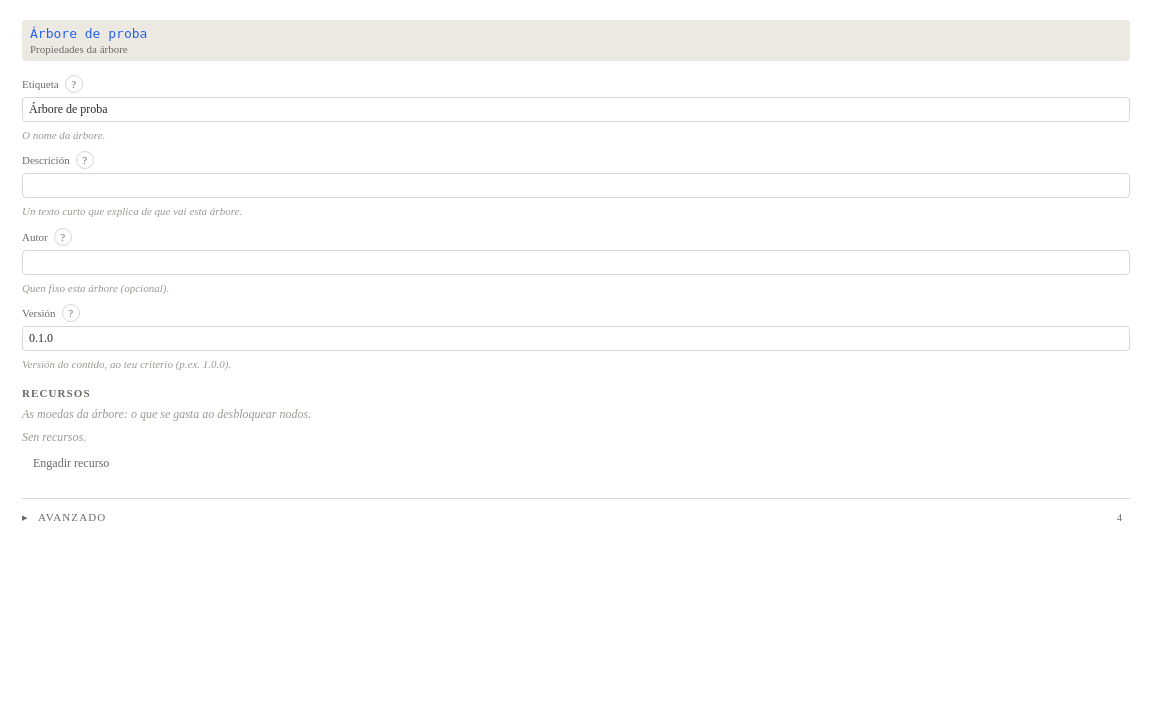
it: ★ 7.12 — TreeInspector: recursos › ★ Engadir recurso dispara setTreeField(resources) co array correcto, id libre
Click the button "Engadir recurso" at (71, 463), box [22,451,120,476]
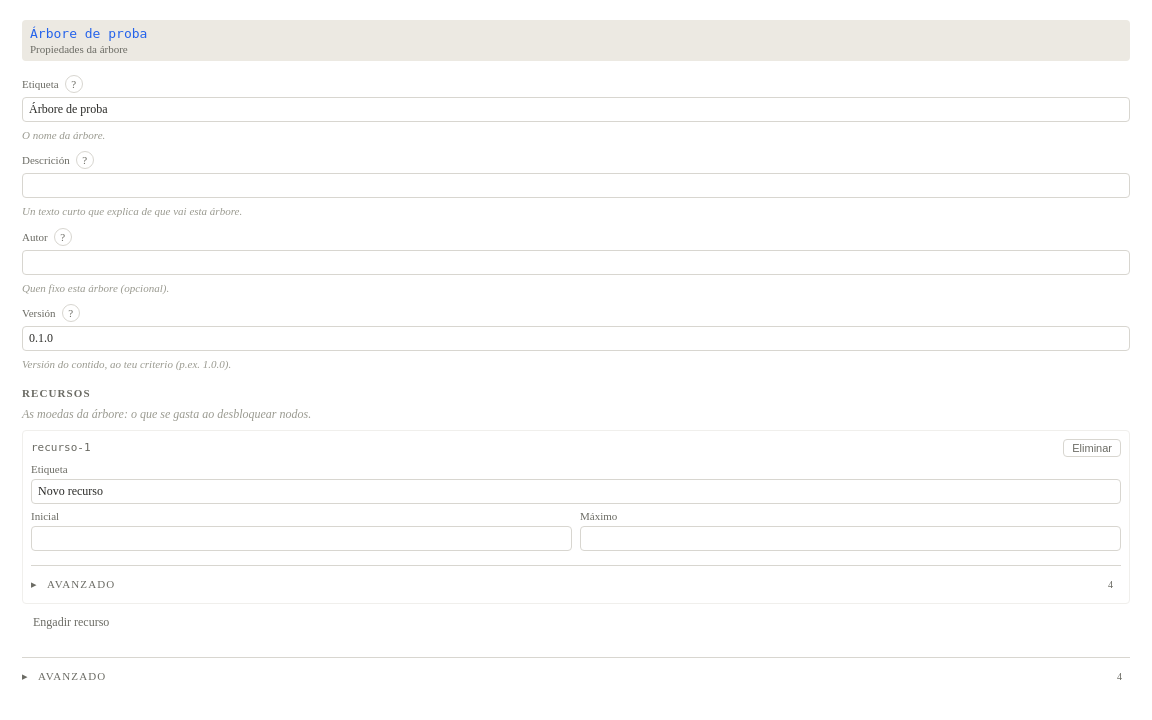
Now the text "recurso-1" is shown, box [31,441,91,454]
